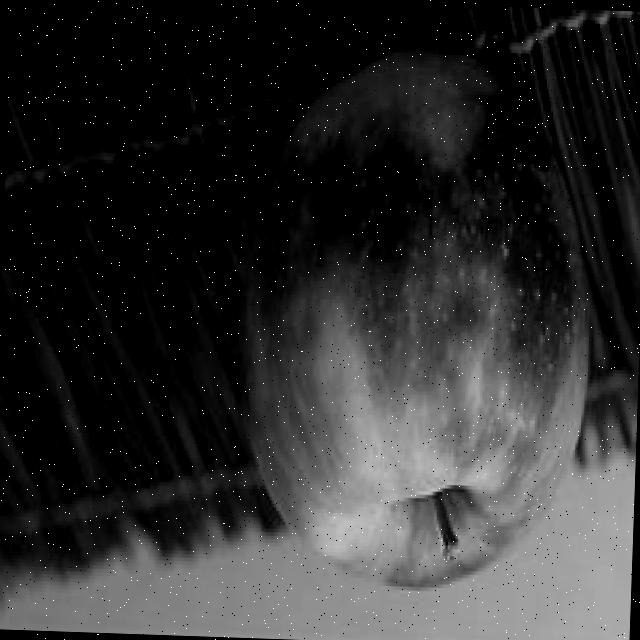apple: (224, 36, 601, 598)
